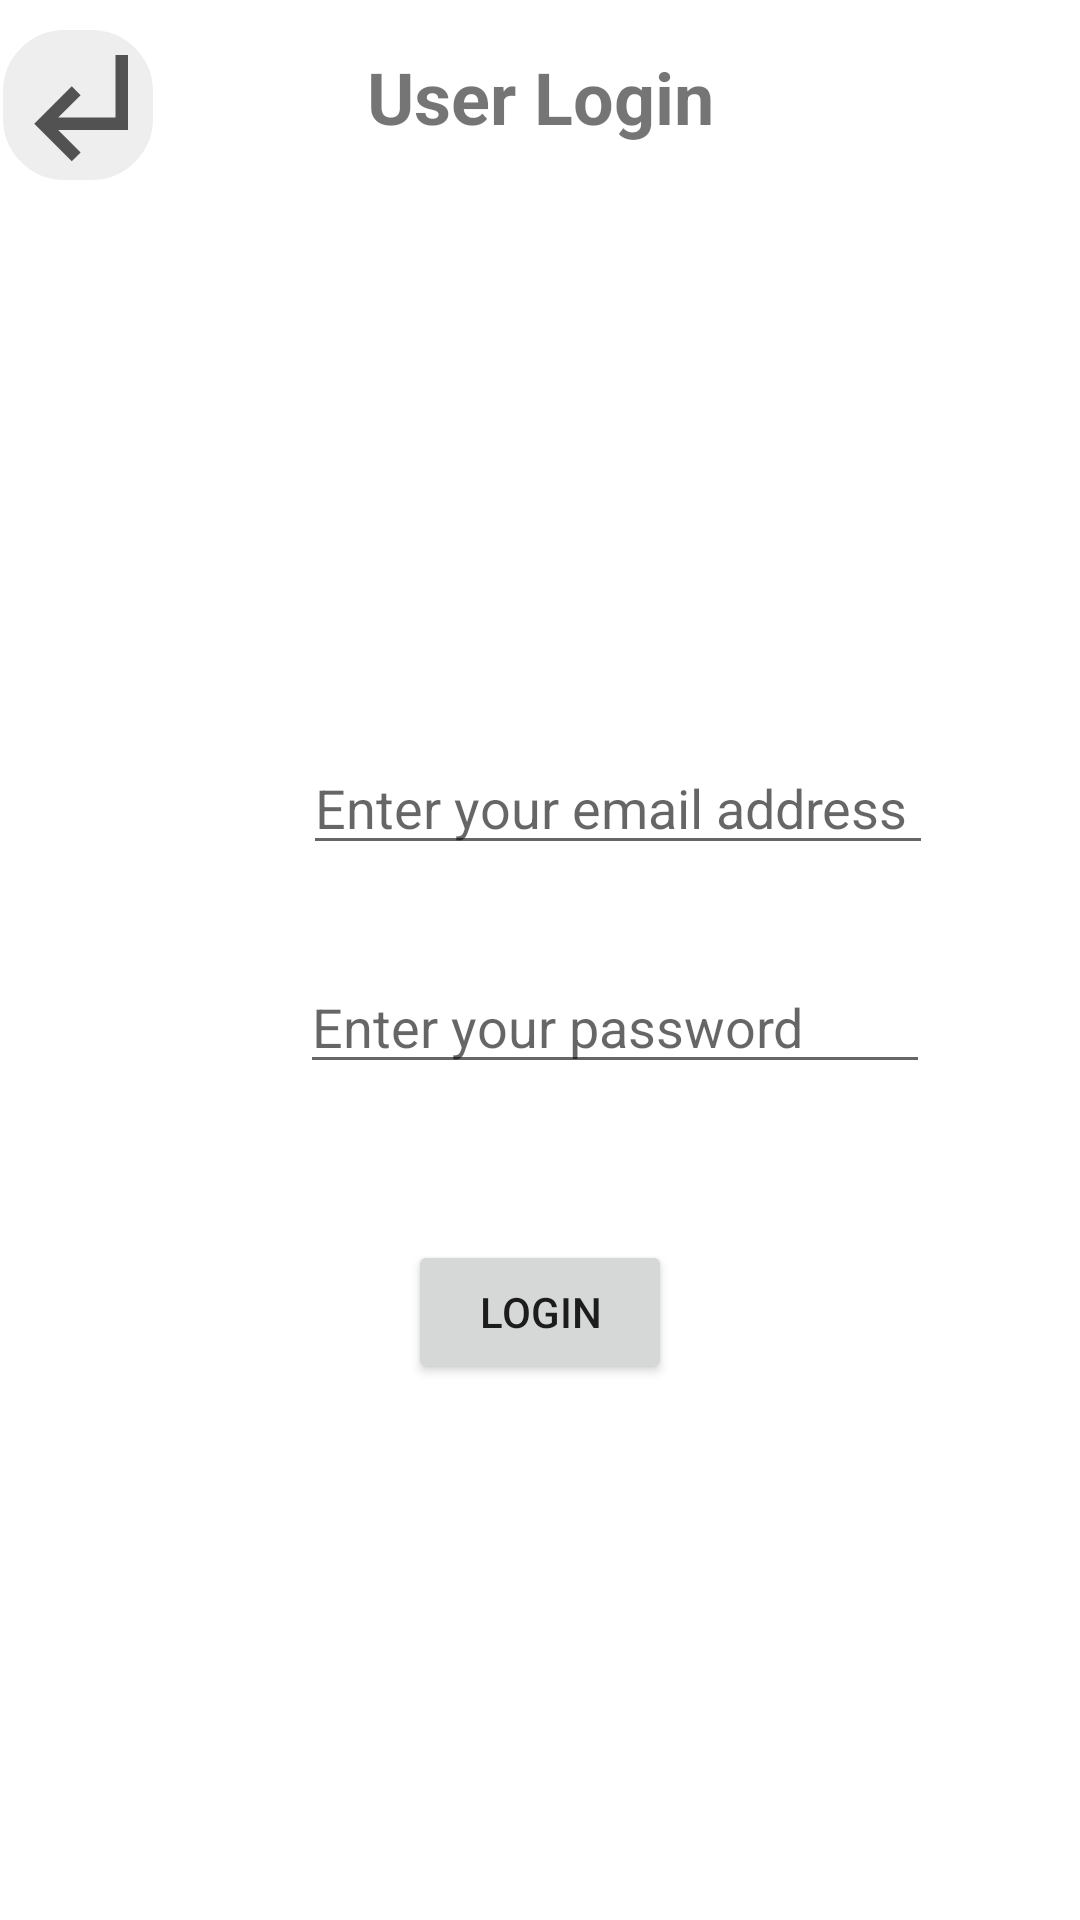

Point at icon controls on the screen. Image size 1080px×1920px, points as (x,y).
subdirectory arrow left: (78,105)
